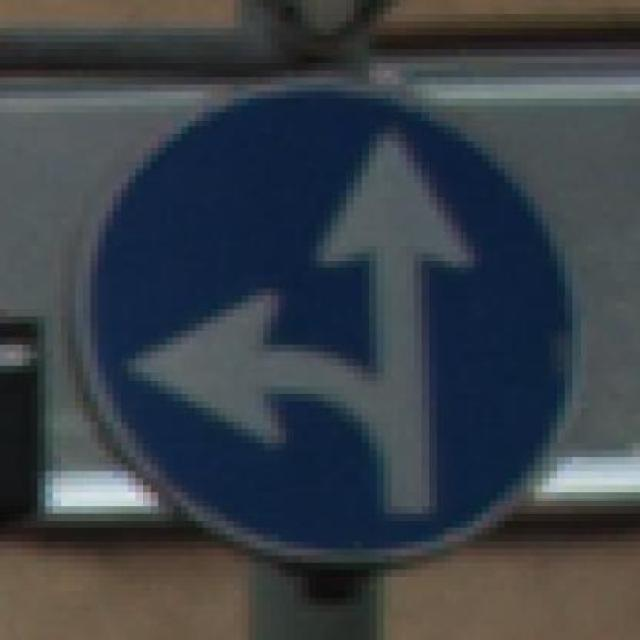Go straight or turn left: (52, 77, 580, 563)
